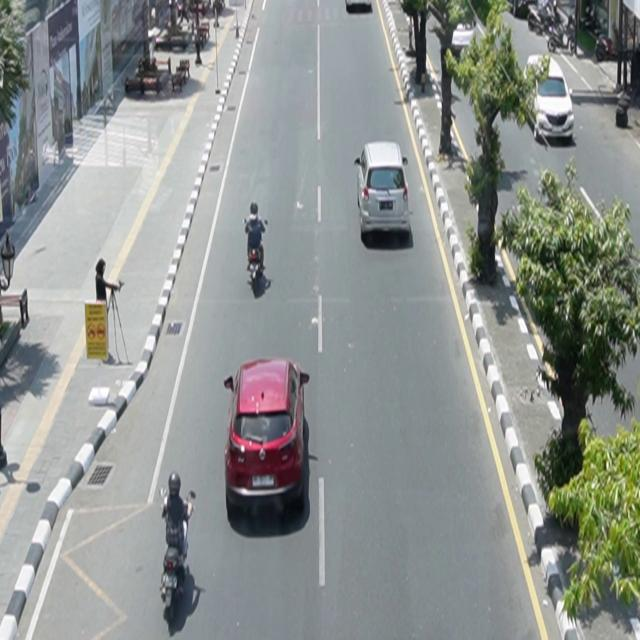car: (224, 358, 311, 518), (355, 141, 412, 241), (524, 55, 575, 144)
